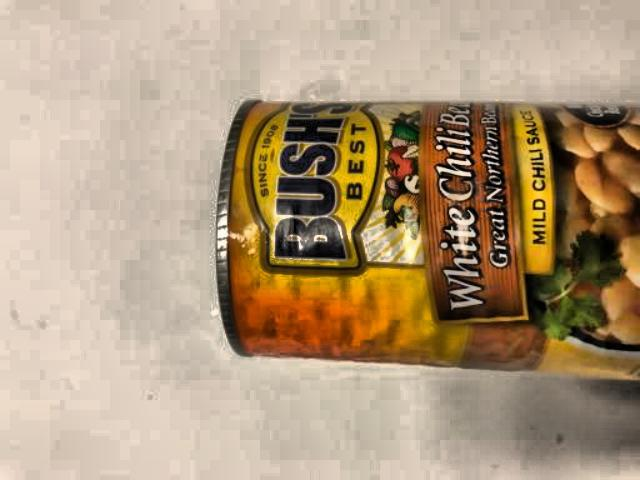Almennt: (180, 87, 640, 475)
